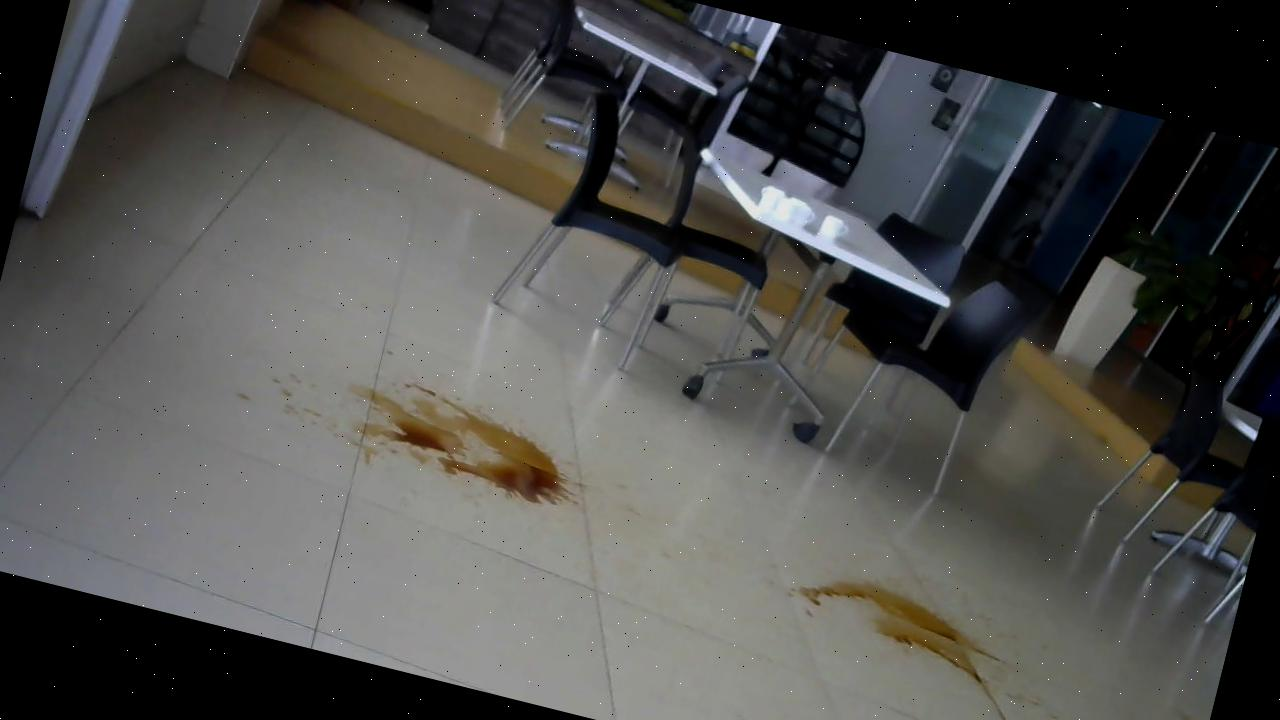dirty_floor: (326, 356, 600, 528), (780, 561, 1062, 716)
